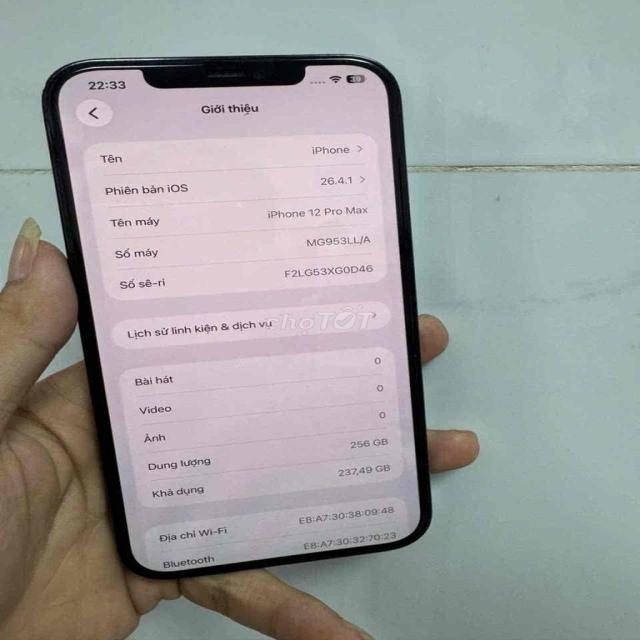gen_12_13: (33, 53, 432, 589)
